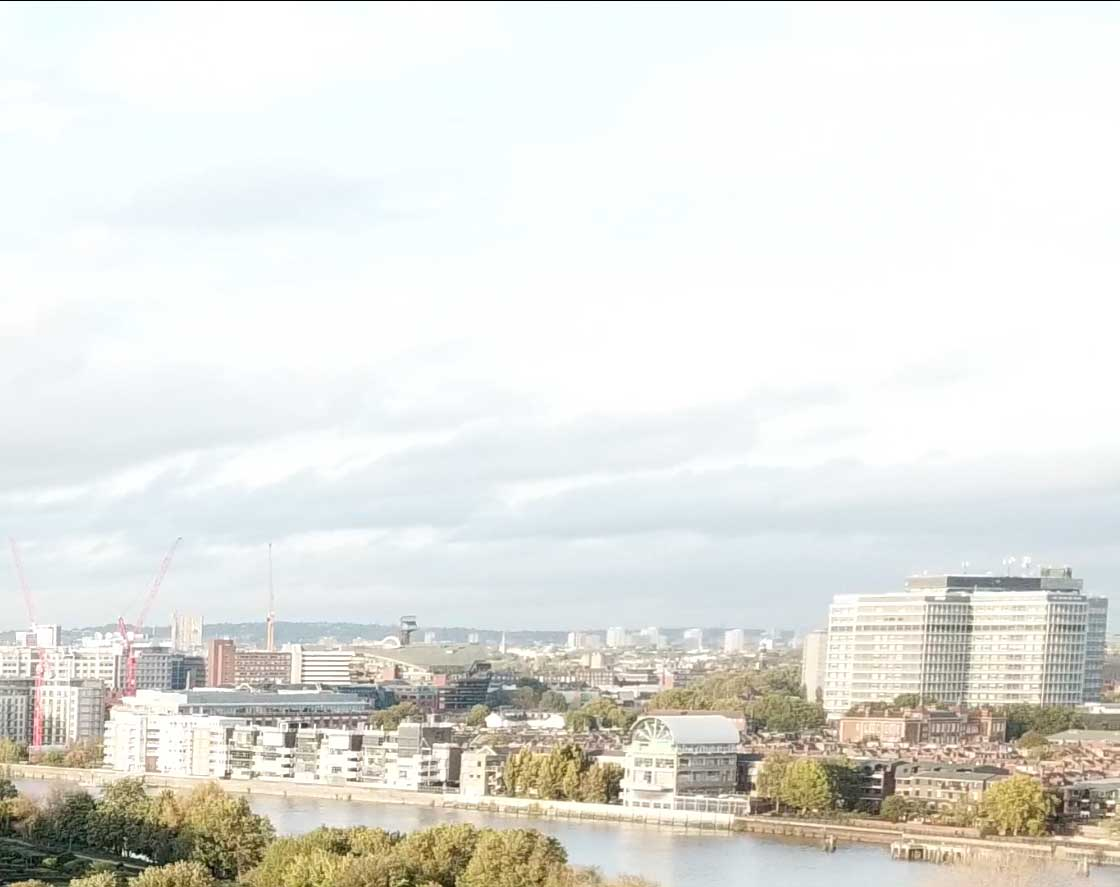buidling: (788, 548, 1114, 733), (617, 699, 762, 822)
